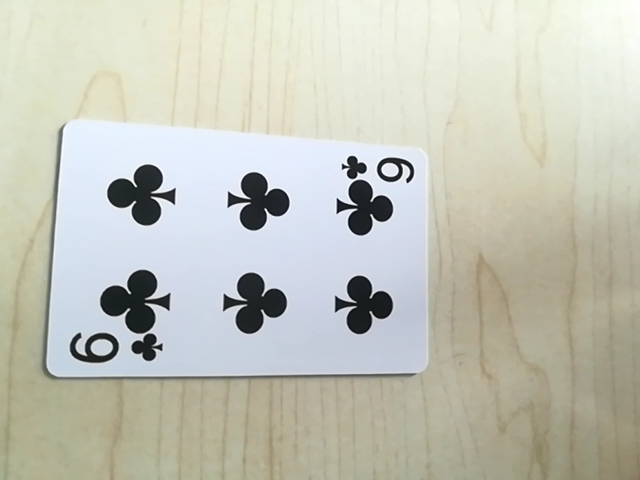mh 6: (59, 327, 168, 370), (340, 154, 416, 187)
